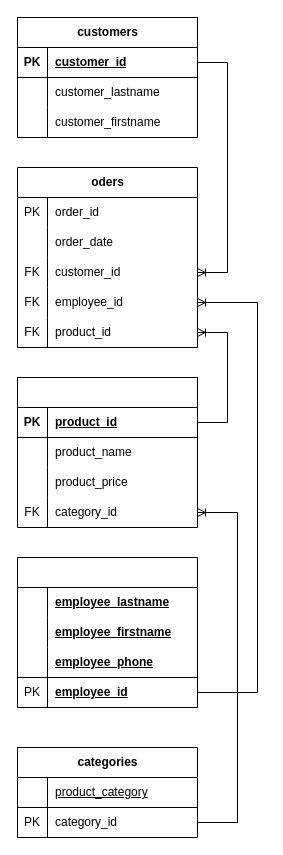
Some shapes in this 283 by 855 pixel diagram are drawn without their labels. The shapes that lost their labels are listed below. From the top down, each one's box as (x1, y1, x2, y2) in pixels, then its label:
(16, 376, 198, 528): products
(16, 556, 198, 708): employees
